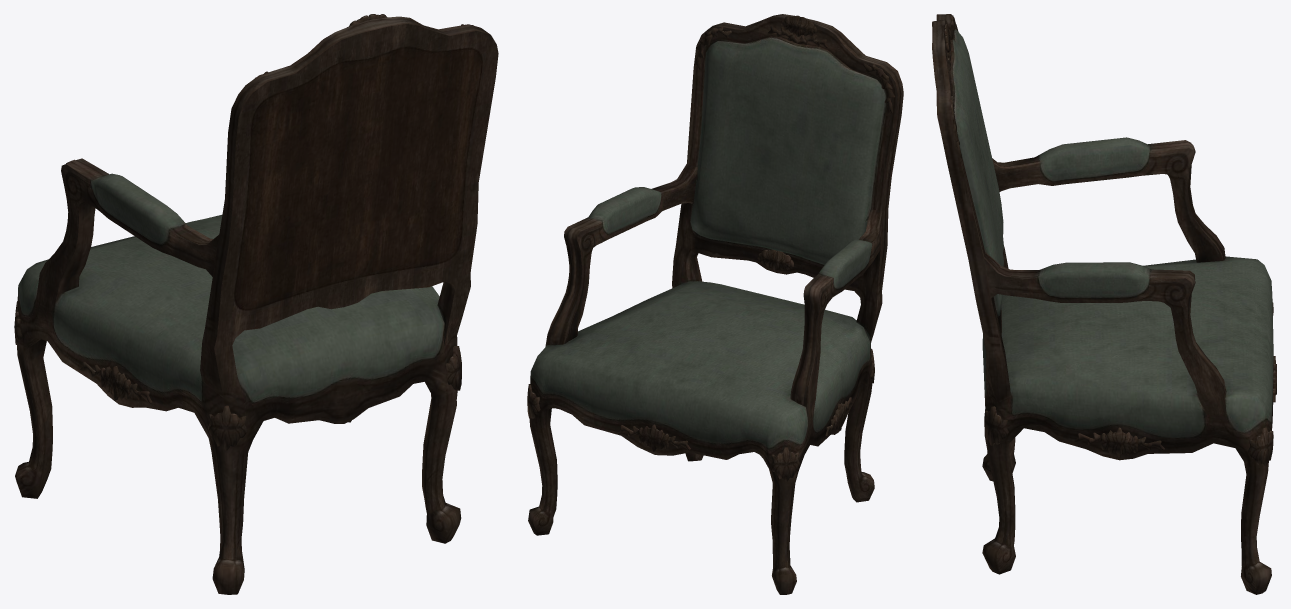
File: fireside_chair.glb
The picture shows the model from 3 angles, left to right: view 1: azimuth 30°, elevation 25°; view 2: azimuth 150°, elevation 25°; view 3: azimuth 270°, elevation 25°; orthographic projection. The views are drawn at different scales.
Parts seen in each view (by area): view 1: fireside_chair; view 2: fireside_chair; view 3: fireside_chair.
Boxes of the visible parts, box(x1,y1,x2,y2) form: fireside_chair: box(14, 14, 498, 594); fireside_chair: box(527, 14, 903, 594); fireside_chair: box(932, 14, 1276, 594).
Size of the model in its own units: 0.6359 by 1 by 0.6277.
Materials: 1 (1 with a texture image).
